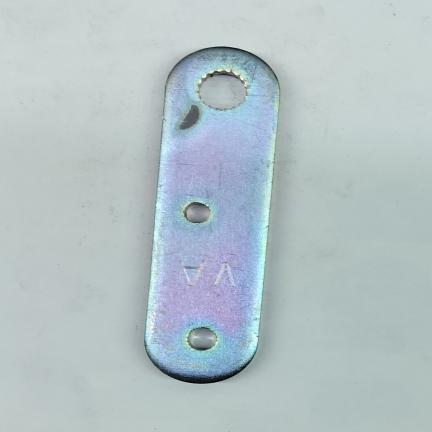black mark after electroplating: (174, 101, 210, 134)
